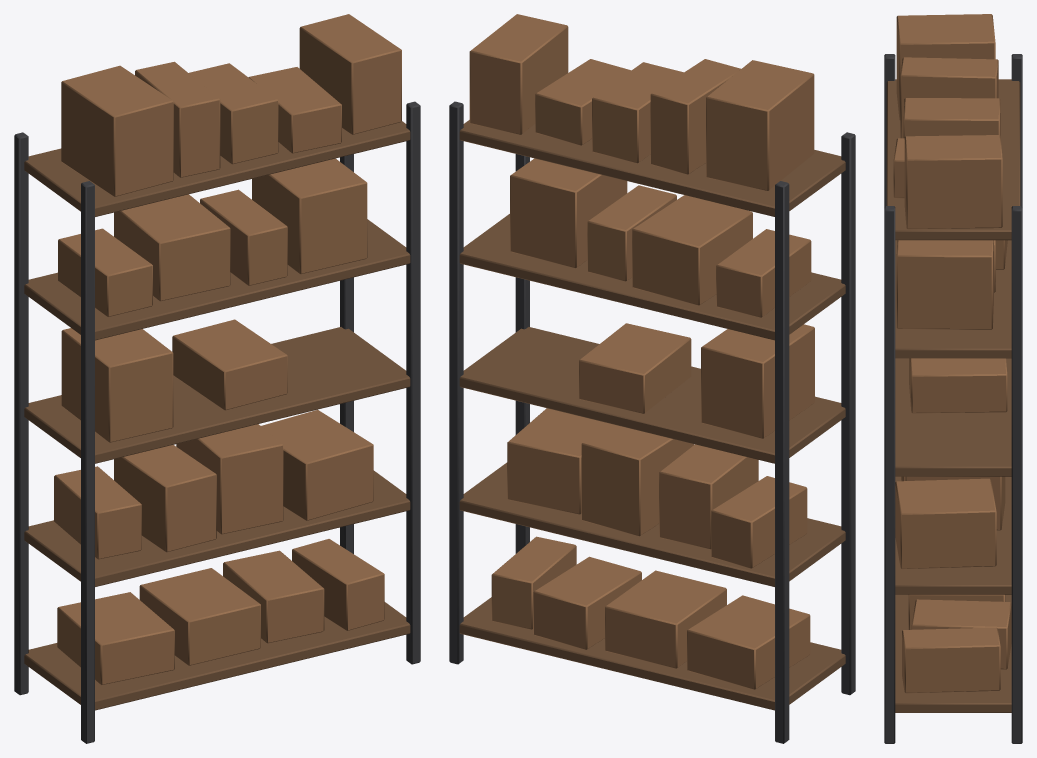
File: arr_scaffale.fbx
3 renders of one model, left to right at view 1: azimuth 30°, elevation 25°; view 2: azimuth 150°, elevation 25°; view 3: azimuth 270°, elevation 25°, orthographic. The views are drawn at different scales.
Parts seen in each view (by area): view 1: arr_scaffale_cuoio, arr_scaffale_noce, arr_scaffale_ferro; view 2: arr_scaffale_cuoio, arr_scaffale_noce, arr_scaffale_ferro; view 3: arr_scaffale_cuoio, arr_scaffale_noce, arr_scaffale_ferro.
Boxes of the visible parts, <box> form: arr_scaffale_cuoio: <box>54,14,401,685</box>; arr_scaffale_noce: <box>24,121,410,710</box>; arr_scaffale_ferro: <box>14,101,420,743</box>; arr_scaffale_cuoio: <box>469,14,814,689</box>; arr_scaffale_noce: <box>459,120,845,710</box>; arr_scaffale_ferro: <box>449,101,855,743</box>; arr_scaffale_cuoio: <box>893,14,1011,693</box>; arr_scaffale_noce: <box>886,79,1020,712</box>; arr_scaffale_ferro: <box>884,54,1022,743</box>.
Bounding box in the file's own units: 1.19 × 2.09 × 0.445.
